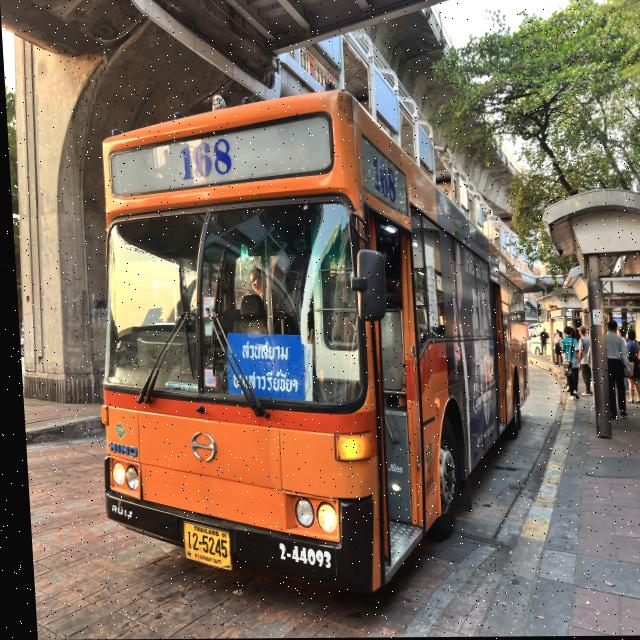BMTA-bus: (80, 91, 534, 600)
Bus-Line-Number: (171, 139, 240, 181)
Destination-Sign-Normal: (219, 337, 303, 399)
